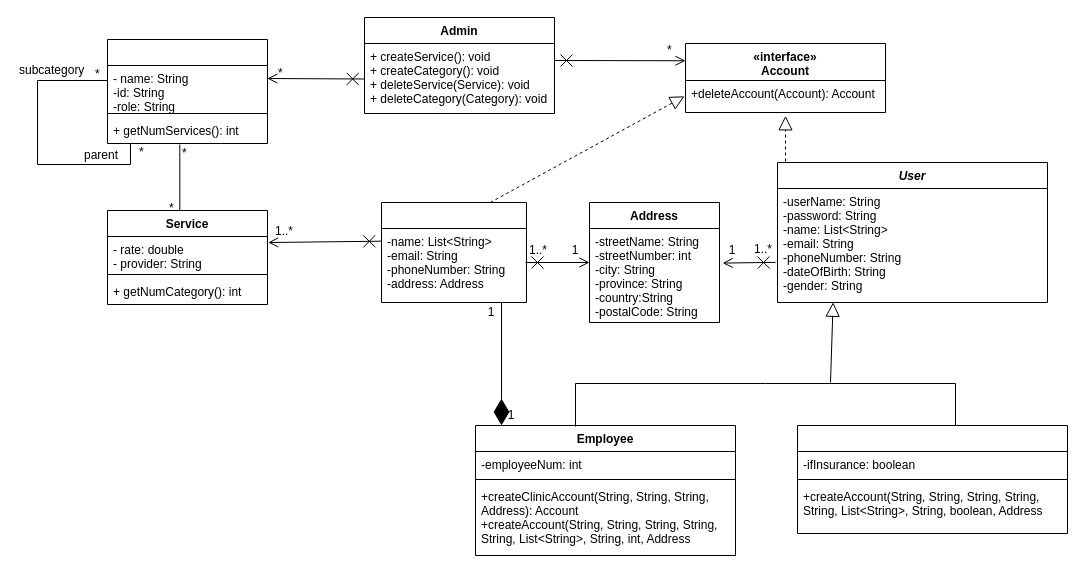
The diagram is 1085 pixels wide and 576 high, and some of its shapes have lost their labels. The box of each missing label's shape, as (x1, y1, x2, y2) in pixels:
Category: (106, 38, 268, 144)
Clinic: (380, 202, 526, 302)
Patient: (796, 424, 1068, 534)
